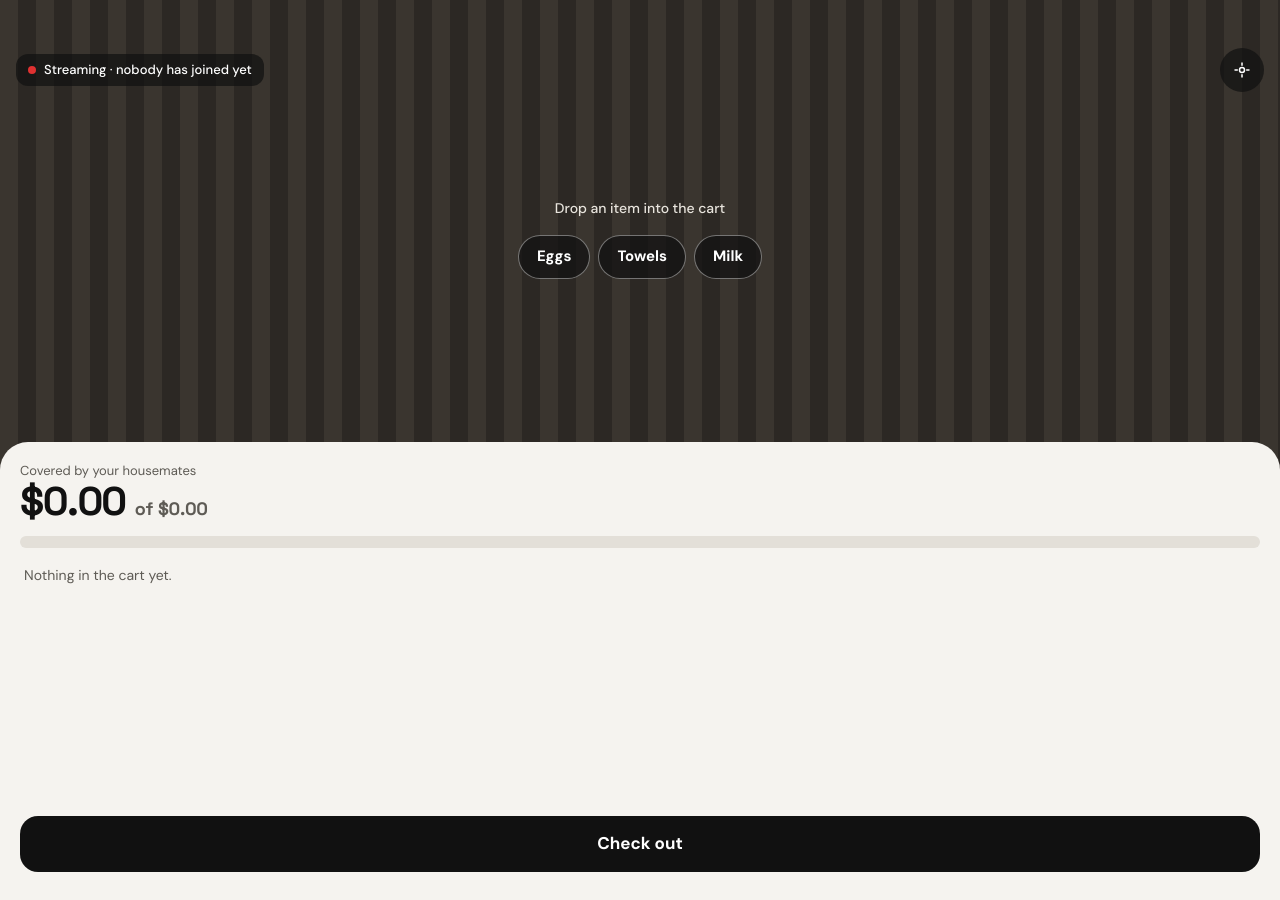
Scenario: the crosshair button explains tap-to-identify
The width and height of the screenshot is (1280, 900).
Click the button named "Tap an item the camera missed" at (1242, 70), box [1220,48,1264,92]
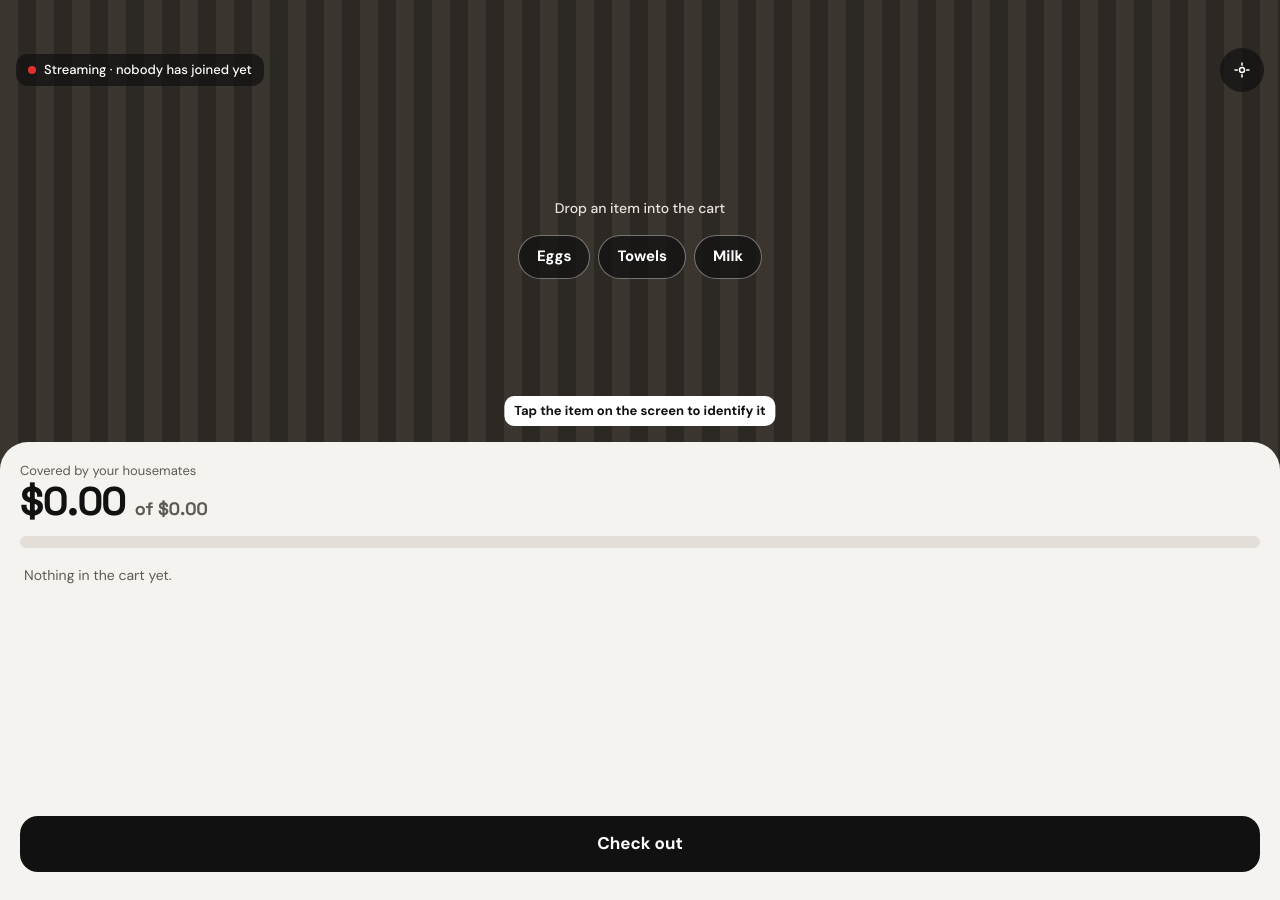
Expected: the text "Tap the item on the screen to identify it" is shown, [504,396,776,426]
